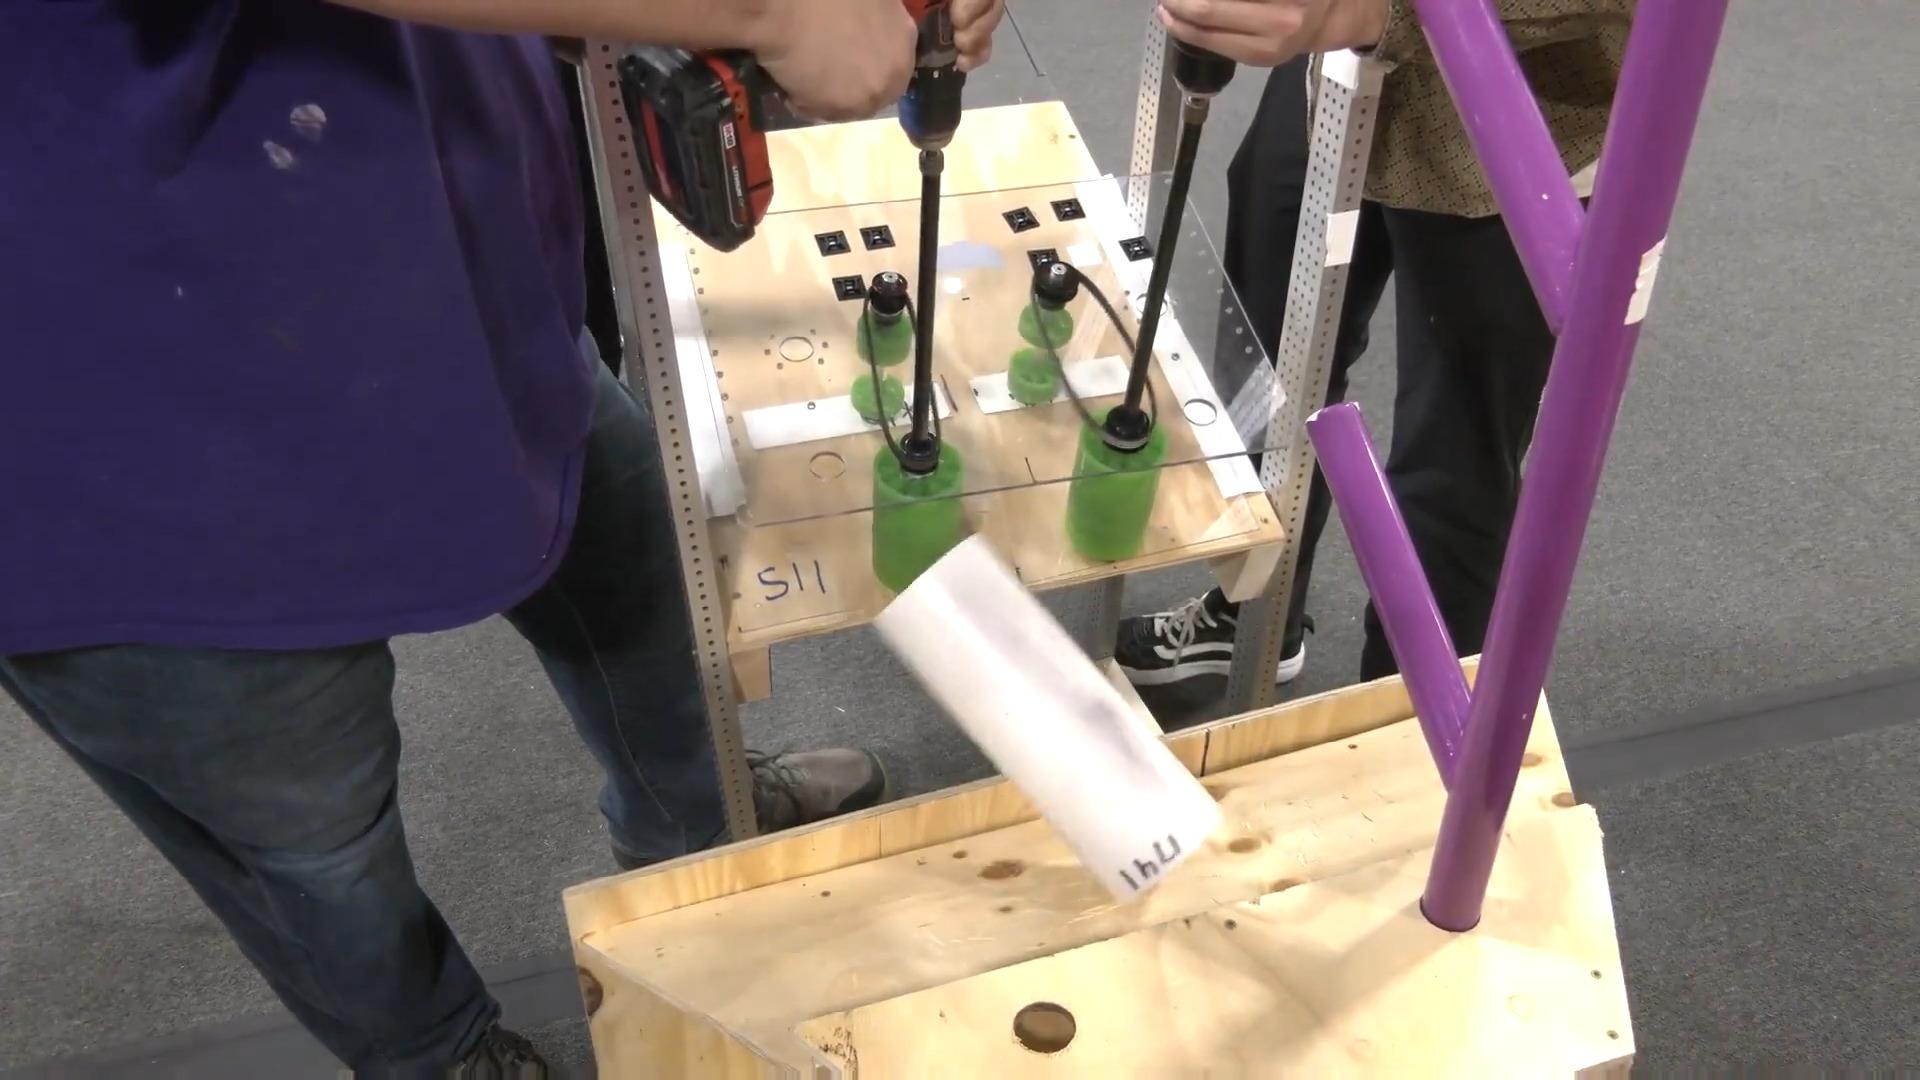coral: (872, 533, 1224, 909)
